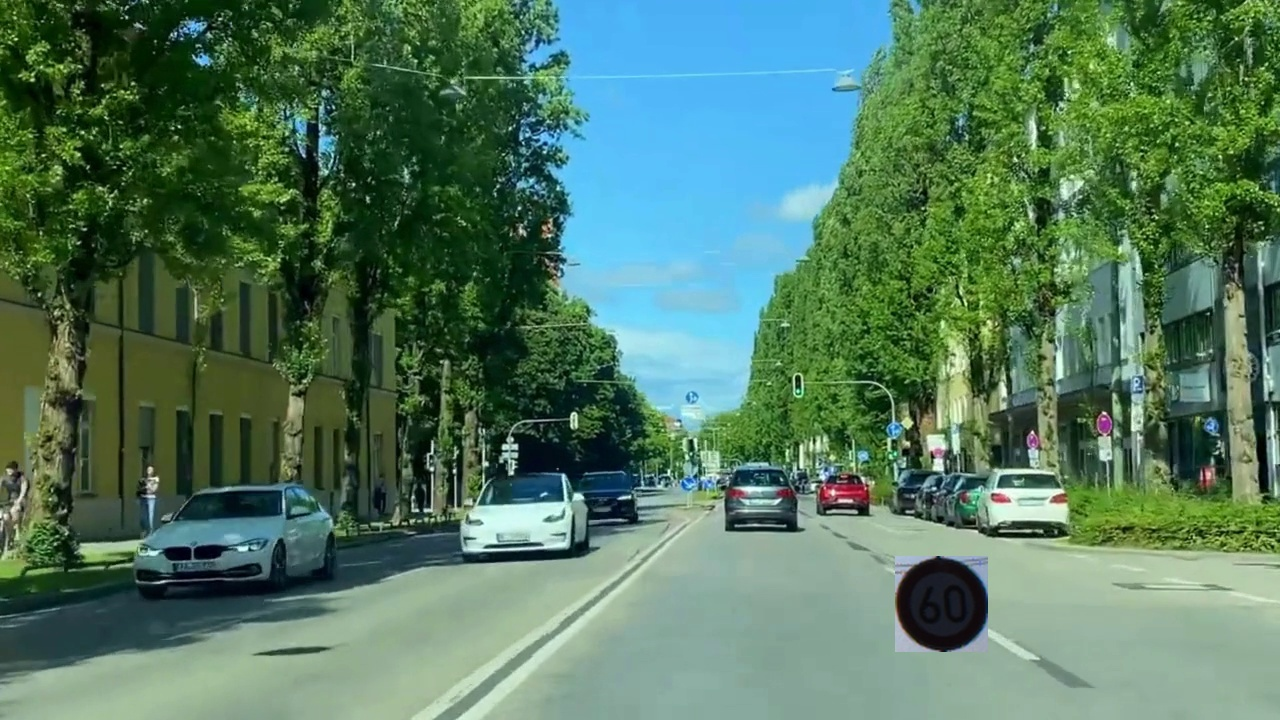Speed 60: (895, 556, 988, 652)
